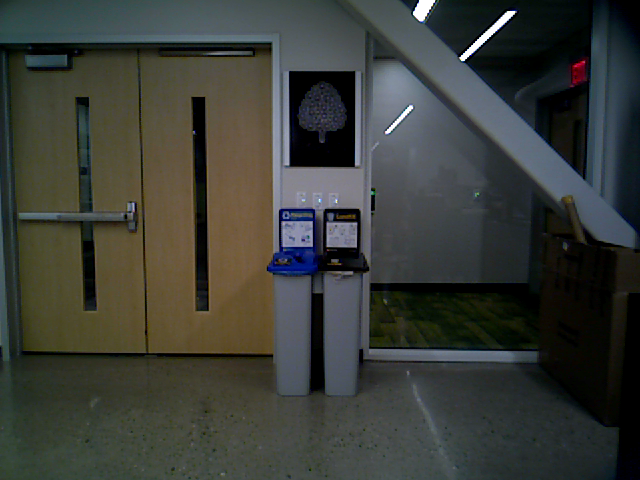painting1: (279, 68, 362, 169)
